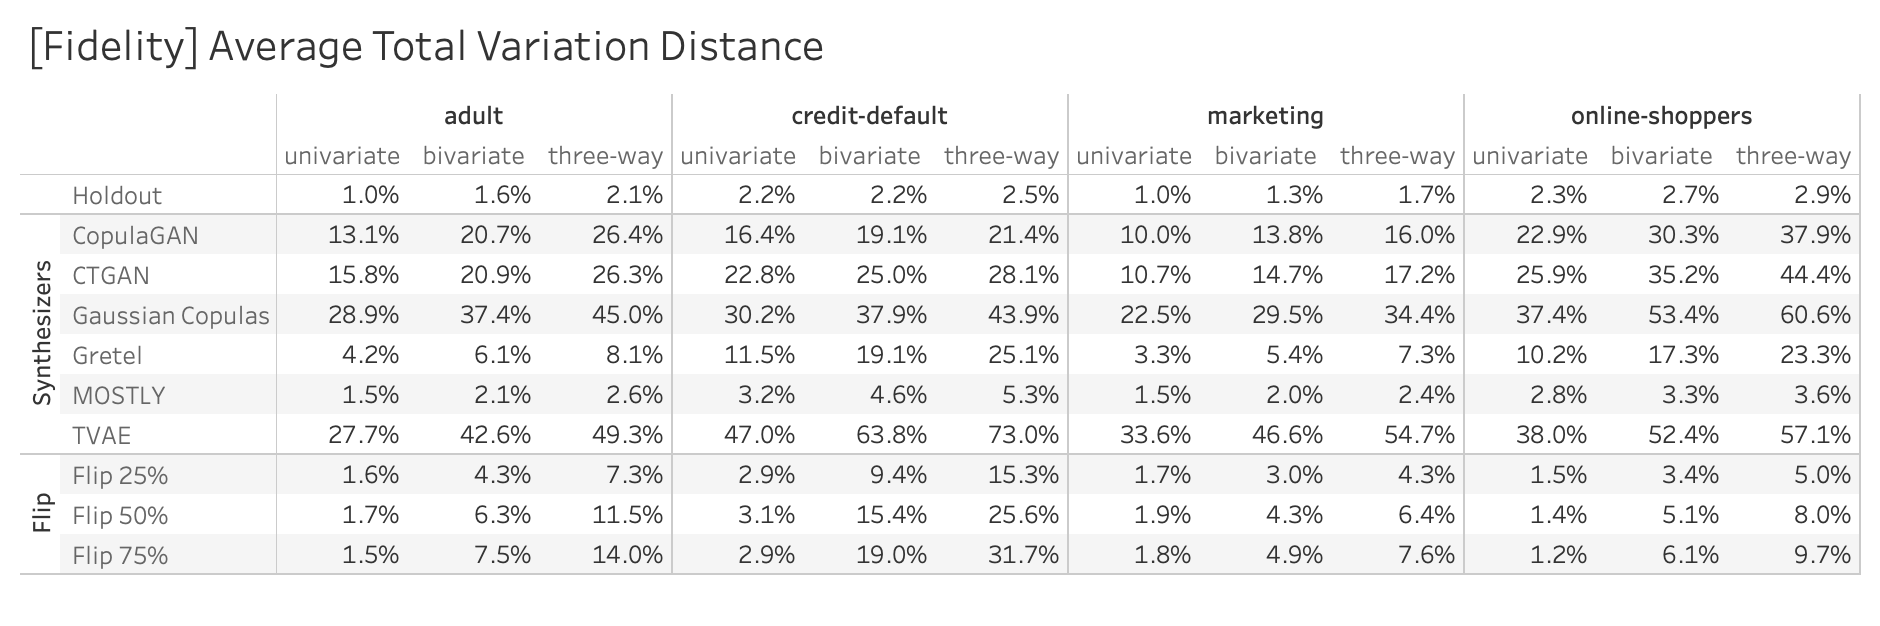

Layout of this report page (visuals, bound fields, positions):
{"tool":"tableau","page":{"name":"fidelity_all","canvas":[700,700],"ordinal":3},"visuals":[{"type":"worksheet","title":"Sheet 2 (3)","mark":"Automatic","rows":["dataset","synthesizer"],"cols":["Calculation_1058205215610793986","tvd"],"box":[8,8,684,684]}]}

Visuals, with their boxes on the page's 700x700 design canvas (x1, y1, x2, y2). These are canvas units, not pixel positions in the 1880x626 screenshot, which may show the page scaled, cropped or inside an application window:
"Sheet 2 (3)" worksheet: left=8, top=8, right=692, bottom=692
